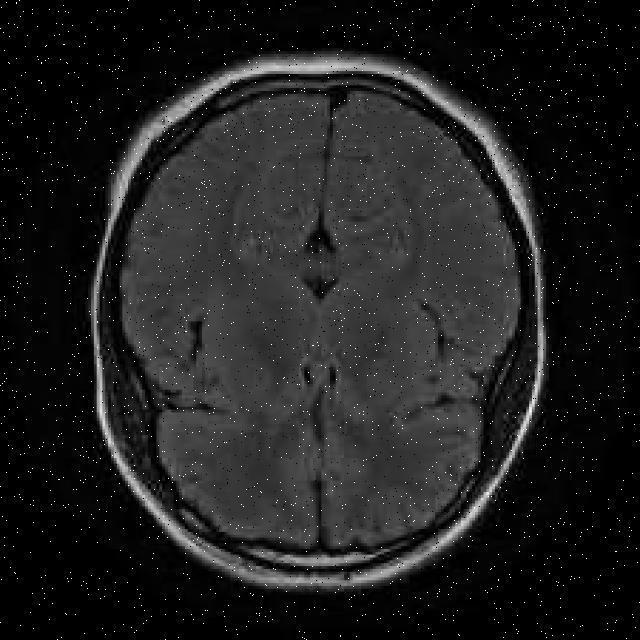No_Tumor: (92, 51, 544, 590)
